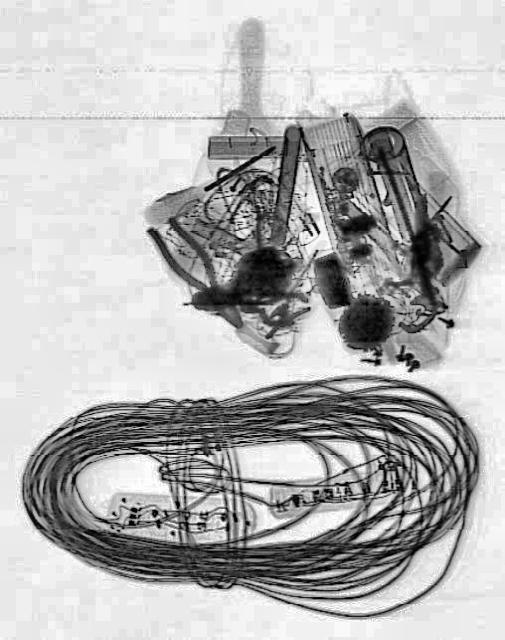Pliers: (142, 203, 256, 343)
